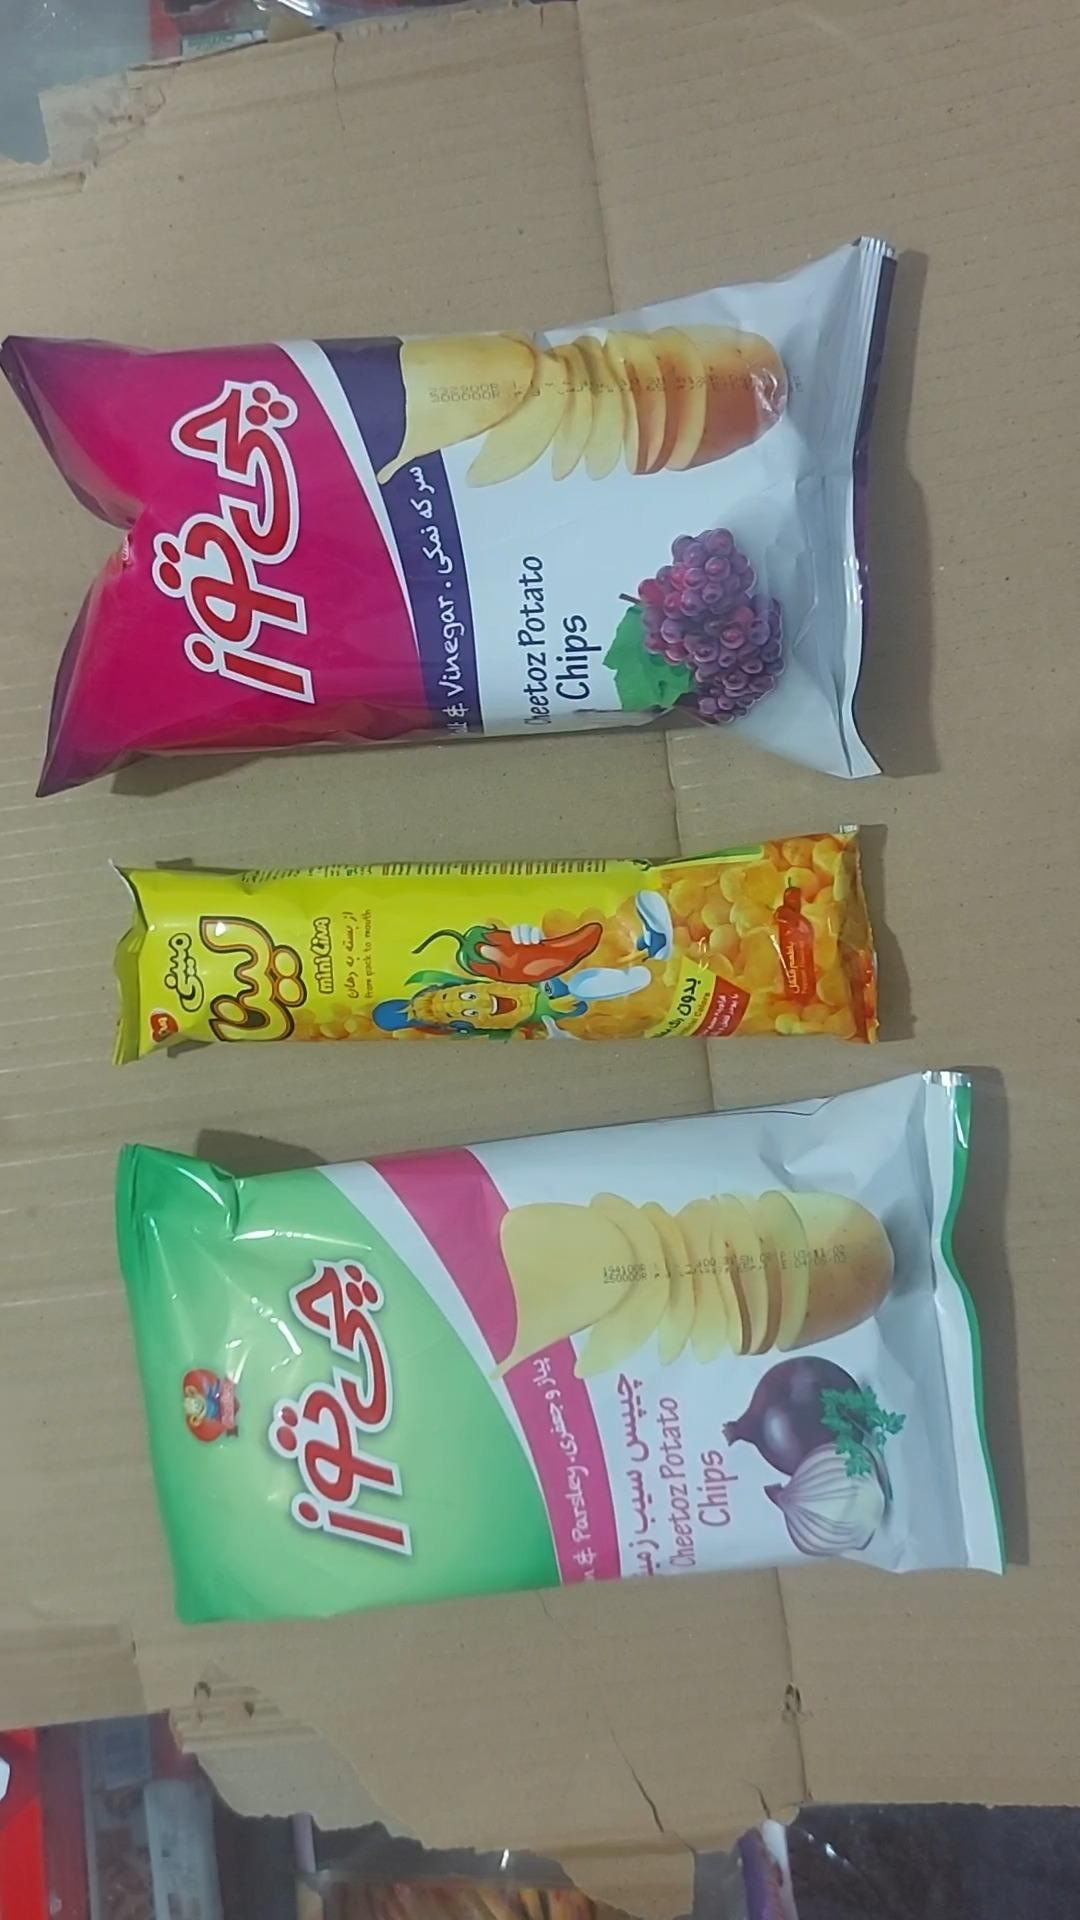Cheetoz onion and parsley chips: (117, 1073, 1004, 1623)
Cheetoz vinegar chips: (0, 239, 894, 794)
Mini Lina: (113, 832, 877, 1064)
